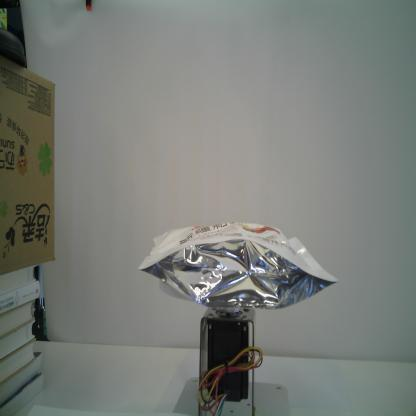Dried Food: (134, 213, 339, 311)
